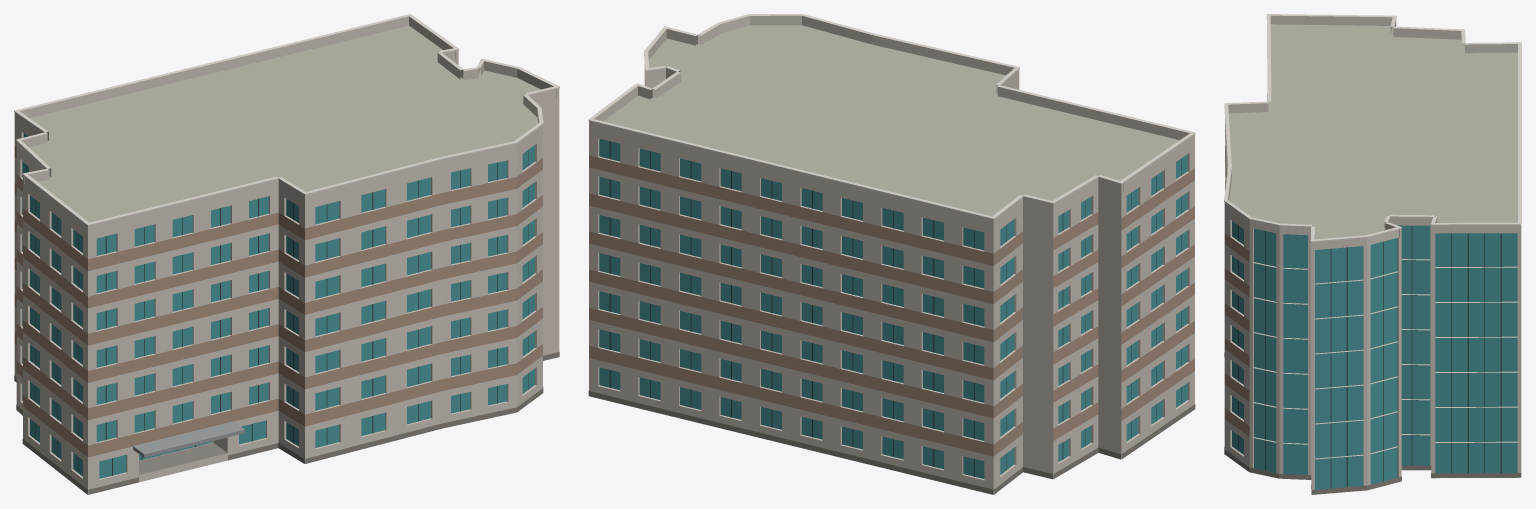
3 views of the same model, side by side, from view 1: azimuth 30°, elevation 25°; view 2: azimuth 150°, elevation 25°; view 3: azimuth 270°, elevation 25° (orthographic). The views are drawn at different scales.
Visible parts, largest first — view 1: hotel__wall, hotel__roof, hotel__wall2, hotel__glass, hotel__parapet, hotel__trim, hotel__base, hotel__frame, hotel__canopy; view 2: hotel__wall, hotel__roof, hotel__wall2, hotel__glass, hotel__parapet, hotel__trim, hotel__base, hotel__frame; view 3: hotel__glass, hotel__roof, hotel__wall, hotel__parapet, hotel__trim, hotel__frame, hotel__wall2, hotel__base.
Part boxes in pixels (x1,y1,x2,y2): hotel__wall: (14, 58, 559, 494); hotel__roof: (29, 25, 540, 482); hotel__wall2: (14, 145, 542, 457); hotel__glass: (22, 133, 534, 478); hotel__parapet: (14, 16, 559, 233); hotel__trim: (14, 14, 559, 225); hotel__base: (14, 352, 559, 494); hotel__frame: (26, 150, 528, 475); hotel__canopy: (133, 421, 244, 457); hotel__wall: (589, 65, 1194, 494); hotel__roof: (603, 25, 1179, 479); hotel__wall2: (589, 155, 1194, 456); hotel__glass: (599, 138, 1187, 478); hotel__parapet: (589, 15, 1194, 227); hotel__trim: (588, 14, 1195, 219); hotel__base: (588, 390, 1195, 494); hotel__frame: (609, 141, 1181, 476); hotel__glass: (1232, 221, 1517, 489); hotel__roof: (1228, 24, 1519, 478); hotel__wall: (1224, 26, 1521, 494); hotel__parapet: (1224, 15, 1521, 249); hotel__trim: (1224, 14, 1521, 242); hotel__frame: (1238, 225, 1501, 488); hotel__wall2: (1224, 94, 1267, 436); hotel__base: (1224, 352, 1521, 494).
Bounding box in the file's own units: 50.16 × 26.12 × 27.78.
